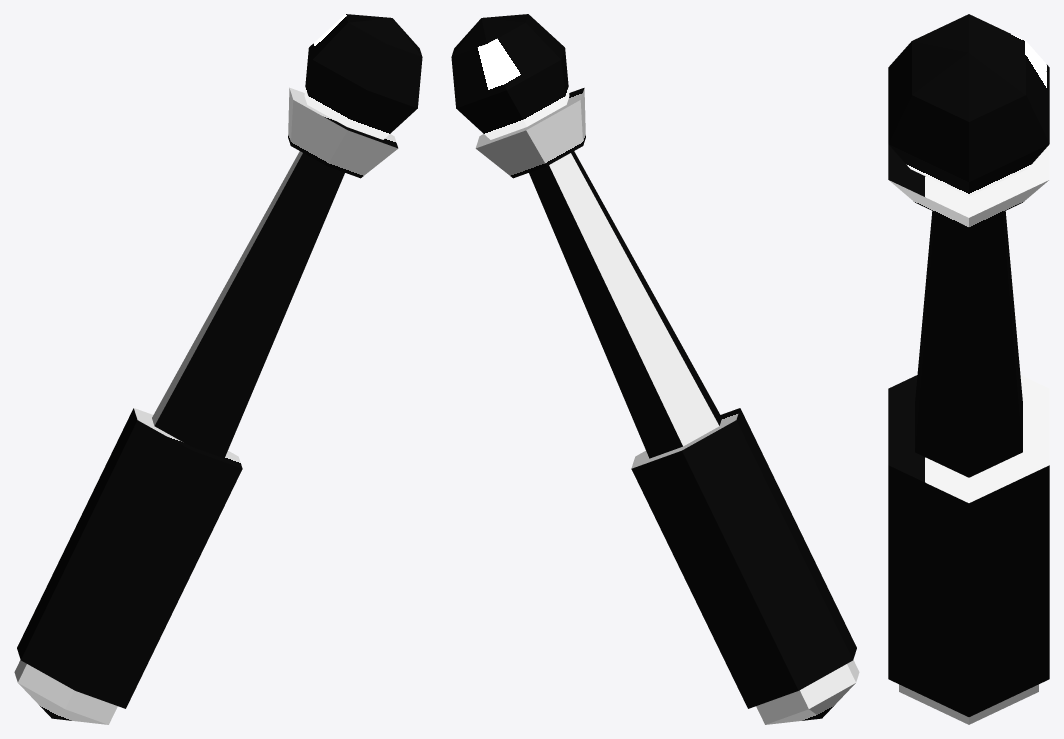
File: wand.glb
The picture shows the model from 3 angles, left to right: view 1: azimuth 30°, elevation 25°; view 2: azimuth 150°, elevation 25°; view 3: azimuth 270°, elevation 25°; orthographic projection. The views are drawn at different scales.
Parts seen in each view (by area): view 1: grip, shaft, gem, collar, cap, pommel; view 2: grip, shaft, gem, collar, cap, pommel; view 3: grip, shaft, gem, collar, cap, pommel.
Part boxes in pixels (left/top/right/bottom): grip: left=17, top=448, right=222, bottom=708; shaft: left=152, top=151, right=344, bottom=458; gem: left=304, top=14, right=422, bottom=139; collar: left=114, top=408, right=242, bottom=508; cap: left=288, top=87, right=398, bottom=178; pommel: left=14, top=660, right=117, bottom=724; grip: left=651, top=448, right=856, bottom=708; shaft: left=529, top=151, right=721, bottom=458; gem: left=451, top=14, right=569, bottom=139; collar: left=631, top=408, right=759, bottom=508; cap: left=475, top=87, right=585, bottom=178; pommel: left=756, top=660, right=859, bottom=724; grip: left=888, top=501, right=1049, bottom=716; shaft: left=915, top=211, right=1022, bottom=477; gem: left=888, top=14, right=1049, bottom=196; collar: left=888, top=375, right=1049, bottom=538; cap: left=888, top=144, right=1049, bottom=227; pommel: left=899, top=684, right=1038, bottom=724.
Bounding box in the file's own units: 0.6452 × 0.9701 × 0.1624.
4 materials, 4 textured.
